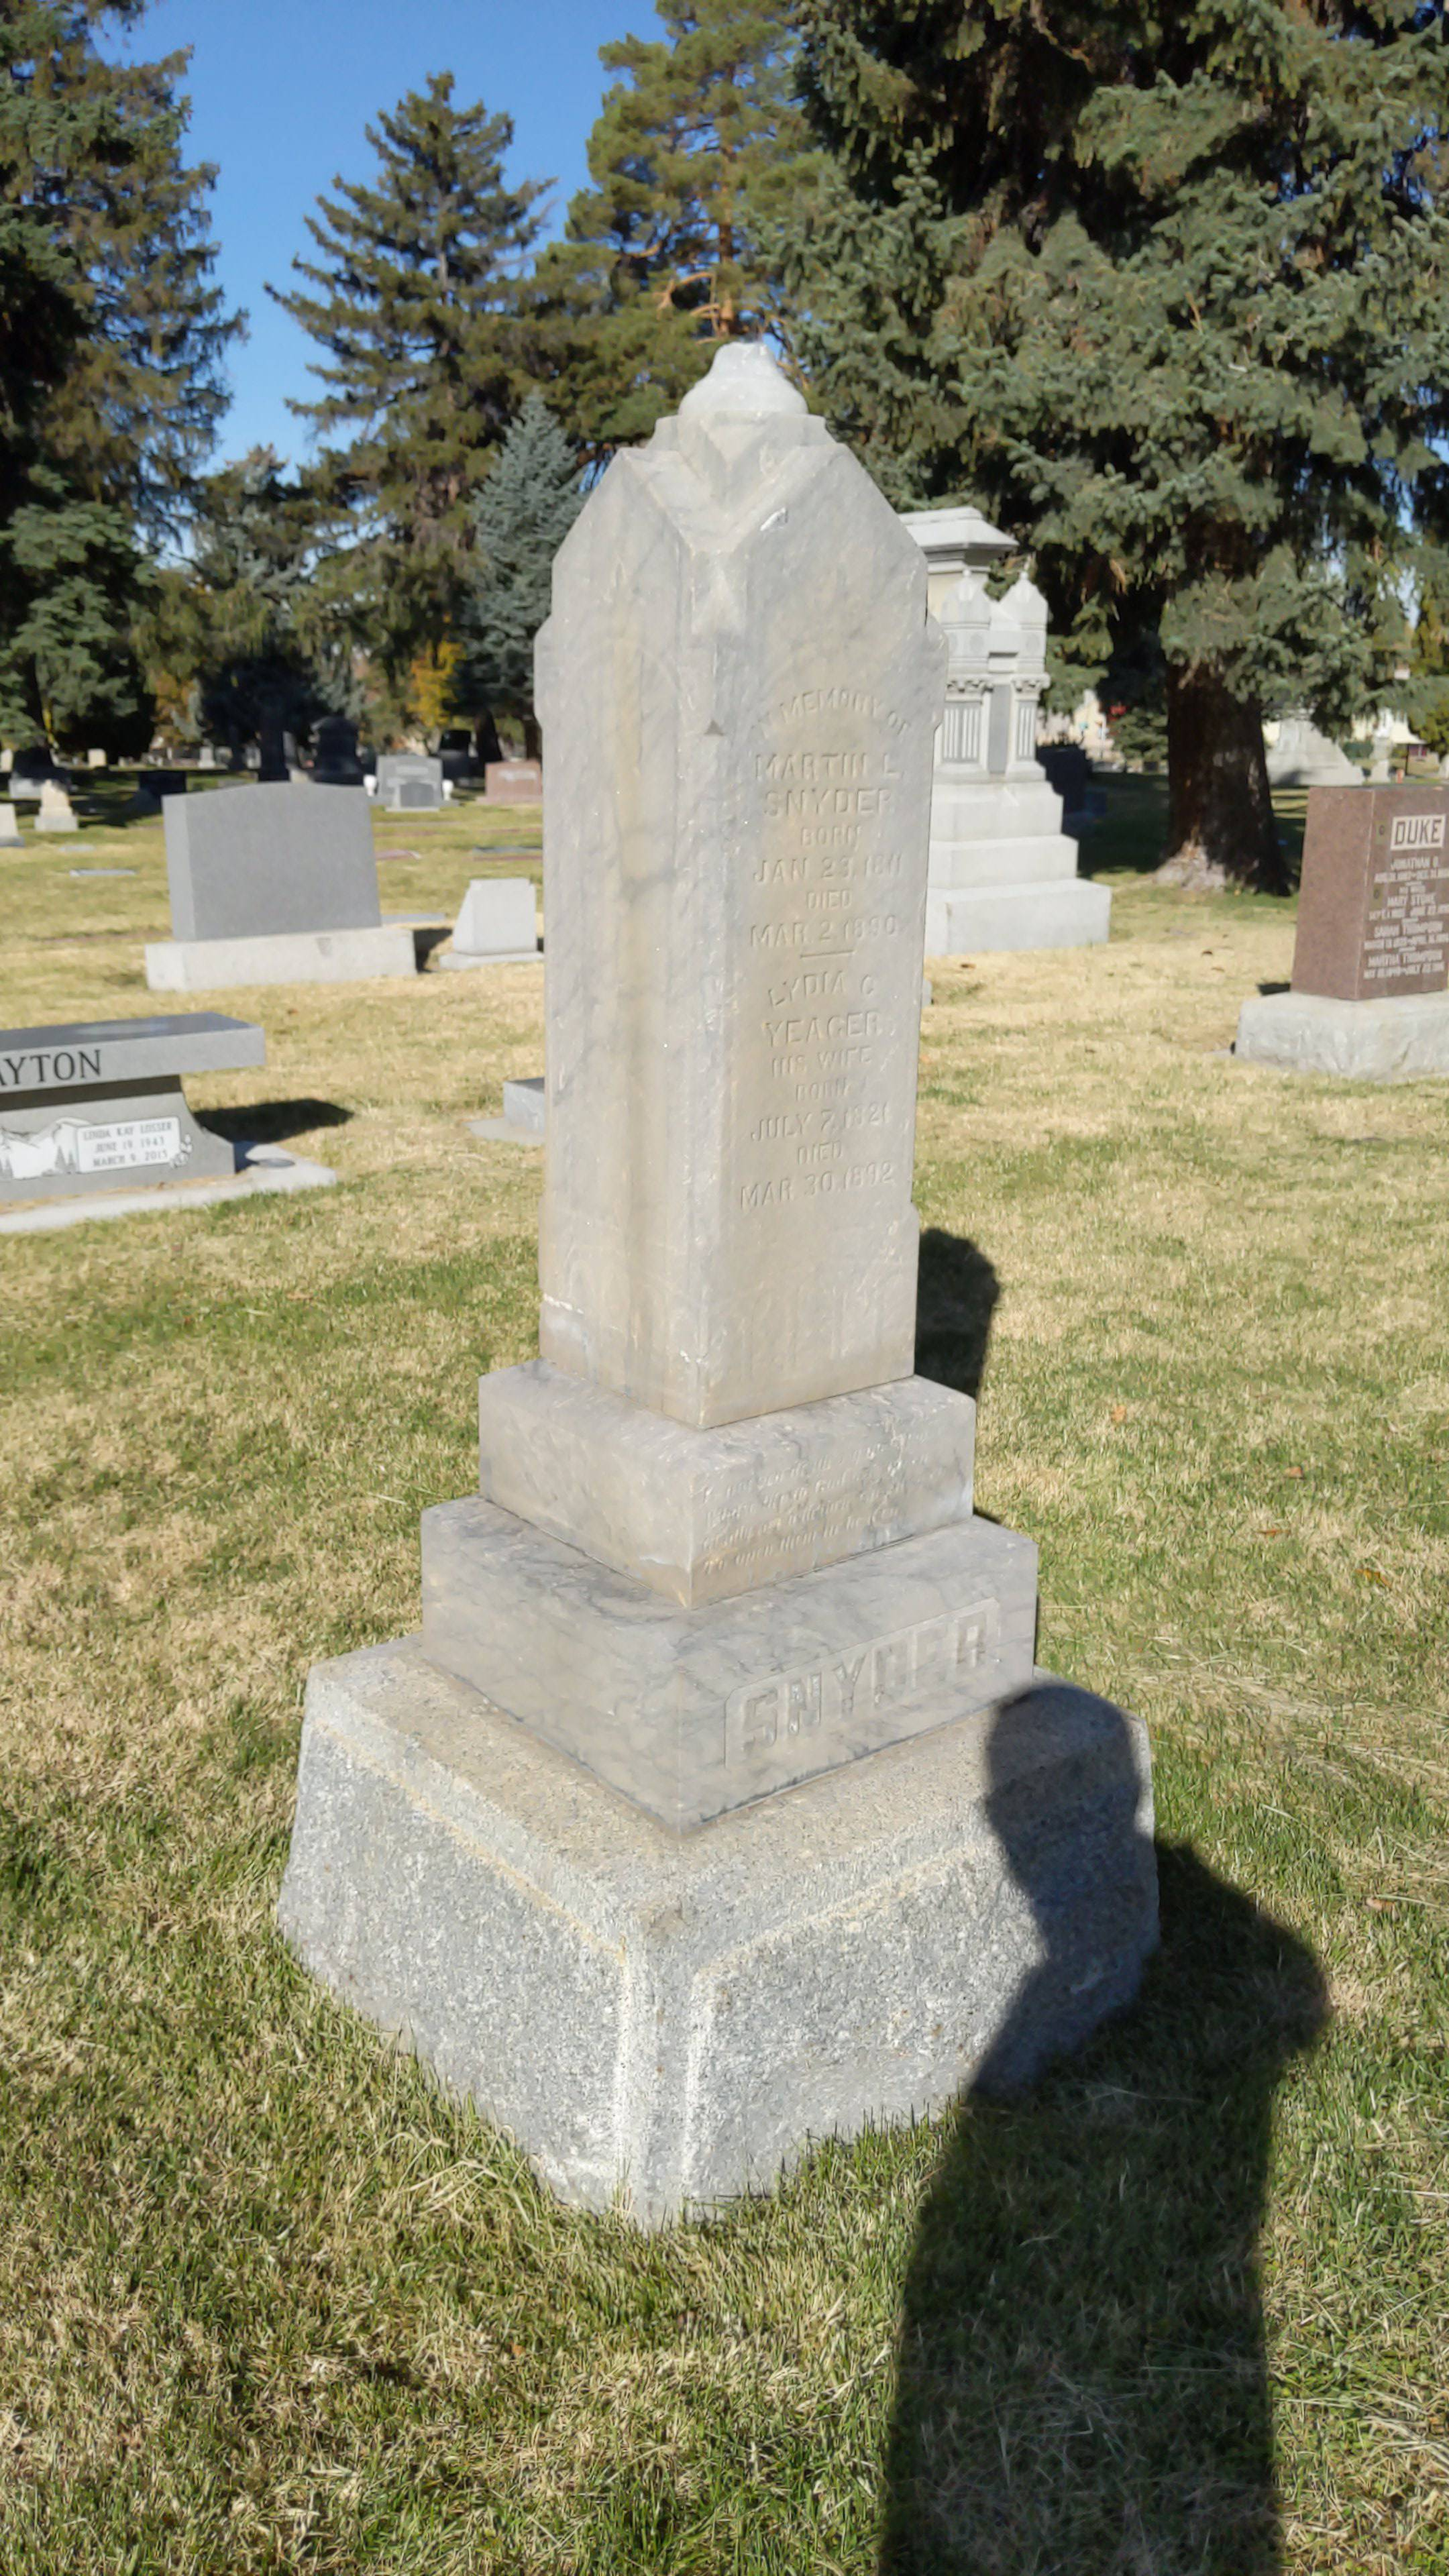obelisk: (430, 338, 1033, 1829)
